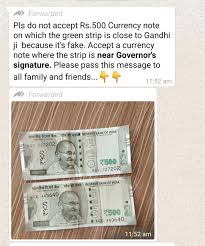fiveHundred: (30, 188, 128, 218), (25, 137, 121, 167)
